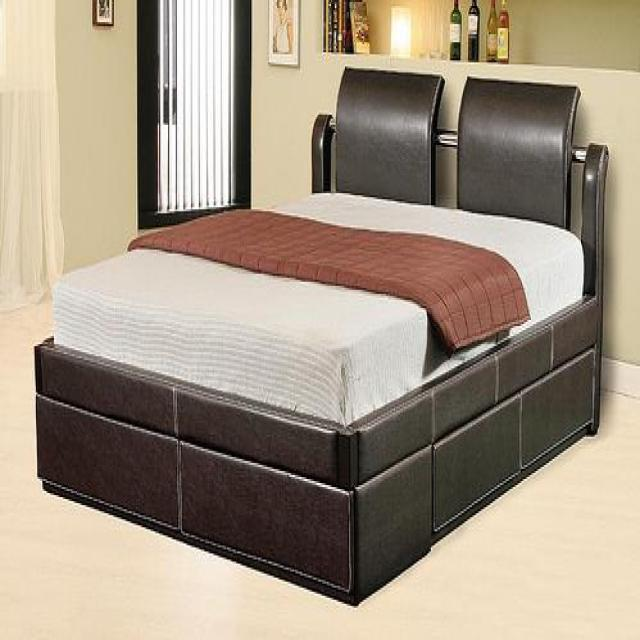bed: (33, 66, 610, 606)
